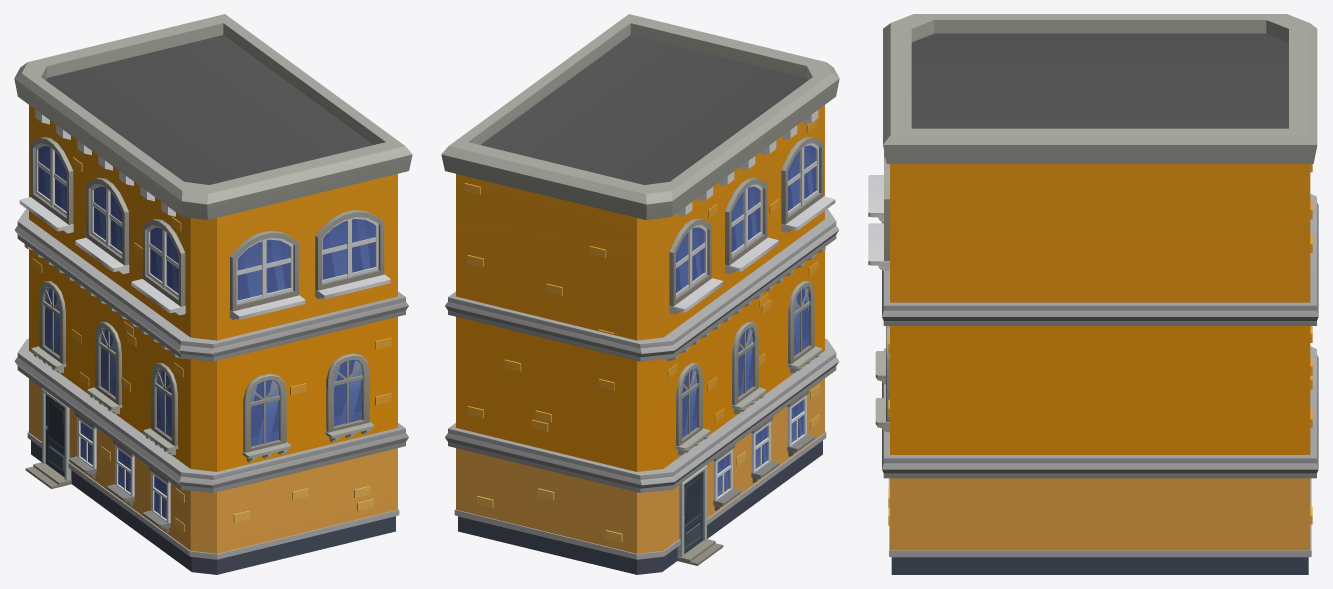
File: Building_18_3_I.fbx
The picture shows the model from 3 angles, left to right: view 1: azimuth 30°, elevation 25°; view 2: azimuth 150°, elevation 25°; view 3: azimuth 270°, elevation 25°; orthographic projection. The views are drawn at different scales.
Parts seen in each view (by area): view 1: Building_18_3_I; view 2: Building_18_3_I; view 3: Building_18_3_I.
Boxes of the visible parts, left/top/right/bottom form: Building_18_3_I: left=14, top=14, right=412, bottom=574; Building_18_3_I: left=441, top=14, right=839, bottom=574; Building_18_3_I: left=868, top=14, right=1318, bottom=574.
Bounding box in the file's own units: 719 × 1156 × 1059.
